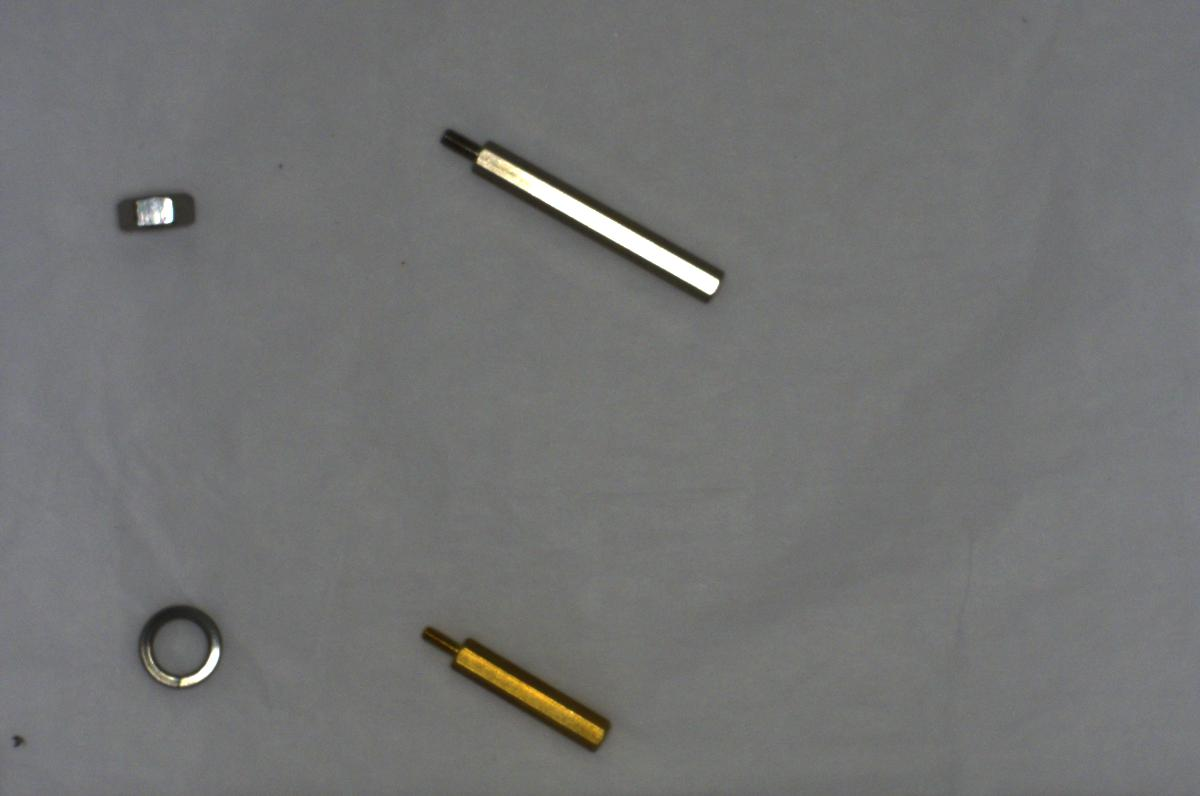Hexagon nut: (105, 179, 199, 240)
Hexagon pillar: (408, 619, 617, 750)
Hexagonal steel column: (428, 120, 738, 307)
Spring washer: (132, 595, 227, 690)
